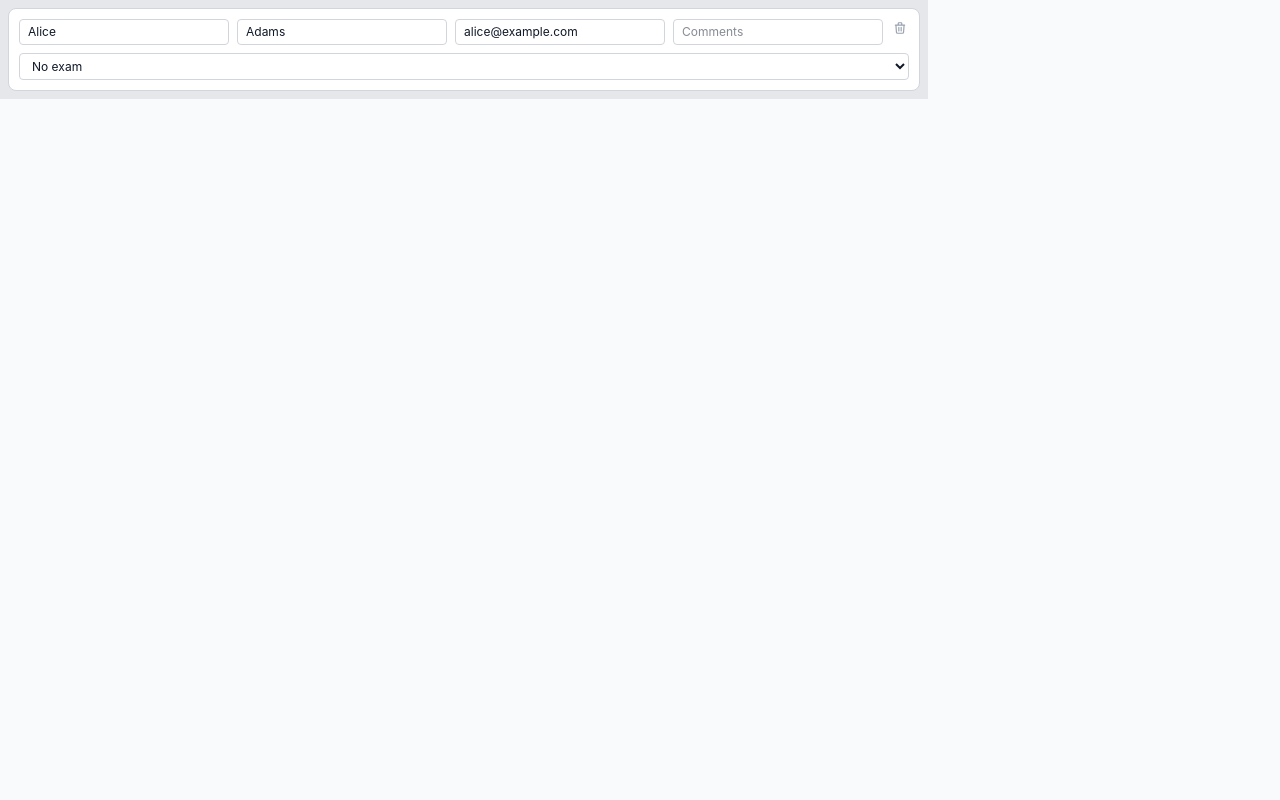
Test: AttendeeRow › Delete flow › uses lighter copy when the offer is still a draft
This screenshot has width=1280, height=800.
Click the button titled "Delete attendee": {"x": 900, "y": 28} [891,19,909,37]
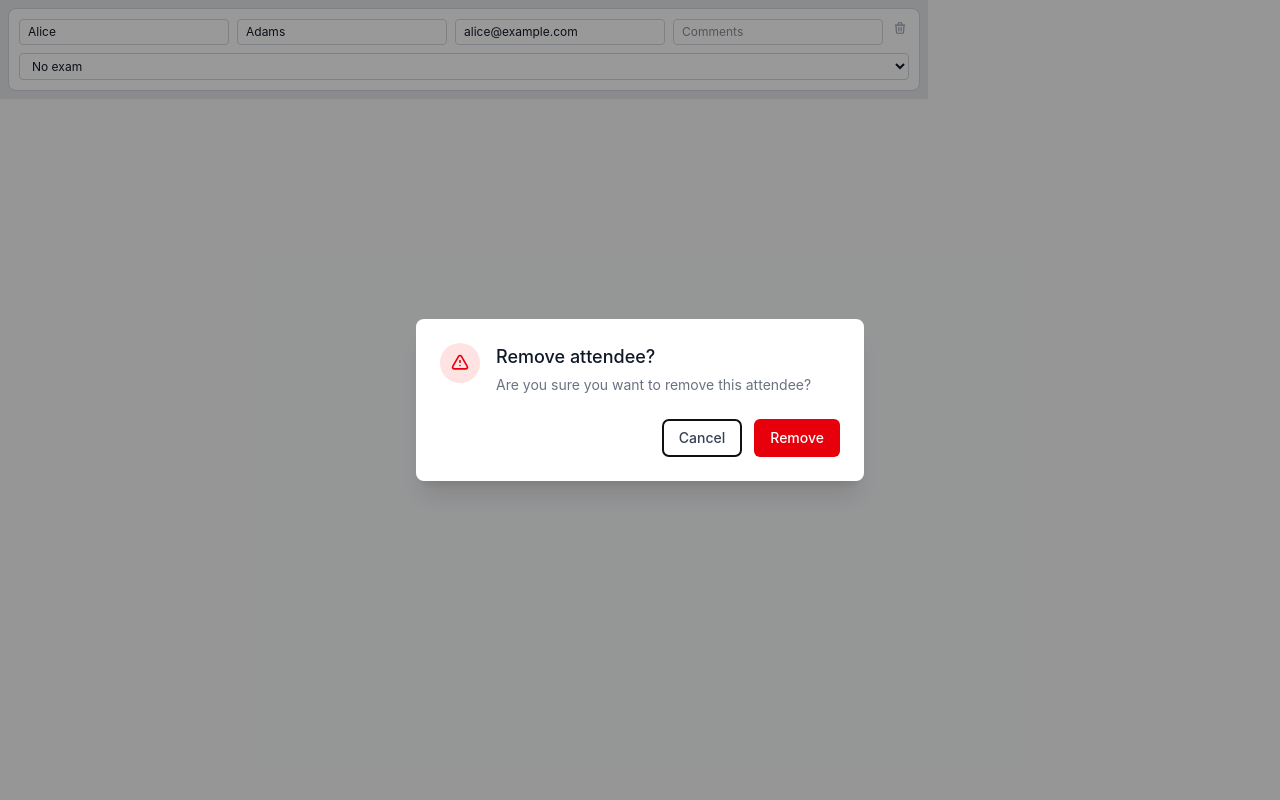
Result: the text "Are you sure you want to remove this attendee?" is shown at [496,375,840,395]
